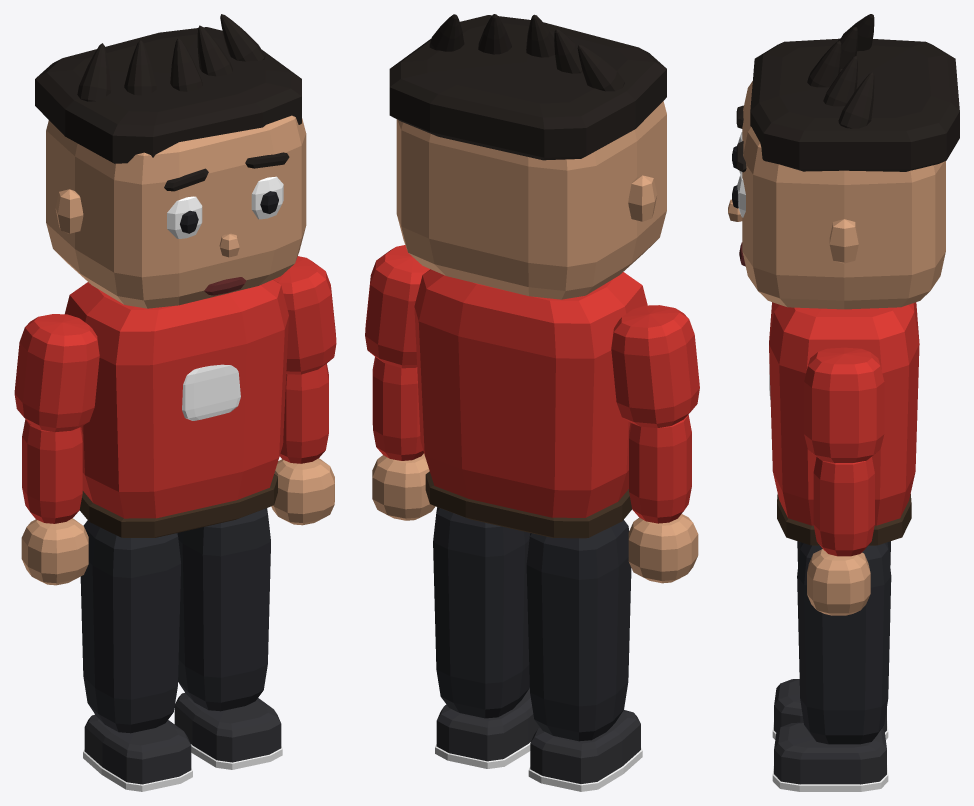
File: hero-b.glb
The picture shows the model from 3 angles, left to right: view 1: azimuth 30°, elevation 25°; view 2: azimuth 150°, elevation 25°; view 3: azimuth 270°, elevation 25°; orthographic projection. The views are drawn at different scales.
Parts seen in each view (by area): view 1: head, torso, leg-right, leg-left, arm-right, arm-left; view 2: head, torso, leg-right, leg-left, arm-right, arm-left; view 3: head, torso, leg-left, arm-left, leg-right.
Part boxes in pixels (x1,y1,x2,y2): head: (35,14,306,308); torso: (65,279,288,537); leg-right: (80,520,192,791); leg-left: (174,508,282,769); arm-right: (14,314,99,585); arm-left: (271,256,336,525); head: (389,14,666,299); torso: (414,269,647,538); leg-right: (526,520,642,791); leg-left: (433,507,539,768); arm-right: (611,305,699,583); arm-left: (365,245,435,520); head: (728,14,959,309); torso: (769,302,919,545); leg-left: (772,542,891,791); arm-left: (804,347,884,615); leg-right: (772,541,890,739).
Size of the model in its own units: 1.29 by 2.89 by 0.8497.
